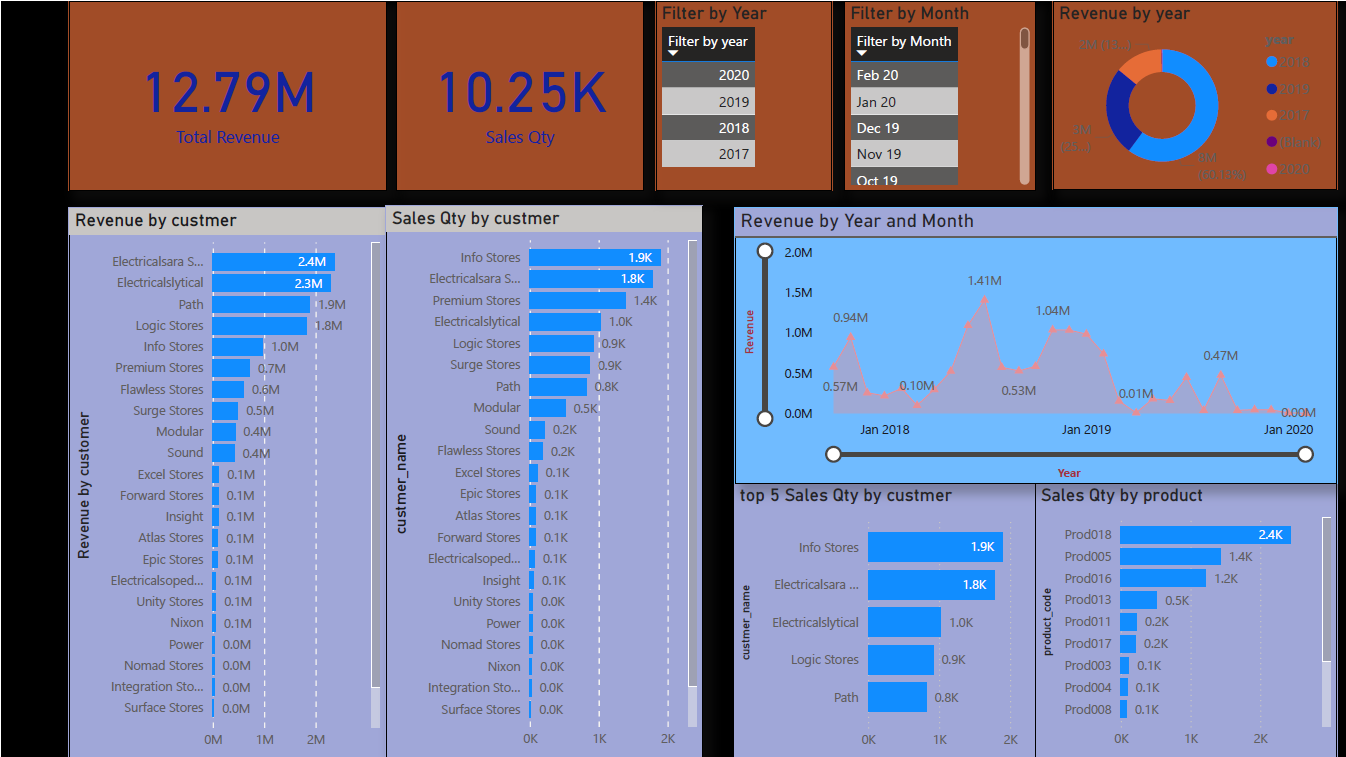

The page's visual inventory and layout, read from the dashboard file:
{"tool":"powerbi","page":{"name":"Page 1","canvas":[1280,720],"ordinal":0},"visuals":[{"type":"card","fields":{"Values":["Basemeasure.Revenue"]},"box":[63.9,0,301.6,179.8],"z":0},{"type":"card","fields":{"Values":["Basemeasure.Sales Qty"]},"box":[375.2,0,235.3,179.8],"z":1000},{"type":"barChart","title":"Revenue by custmer","fields":{"Y":["Basemeasure.Revenue"],"Category":["customer.custmer_name"]},"box":[64.5,196.2,300.5,524.2],"z":2000},{"type":"barChart","title":"Sales Qty by custmer","fields":{"Y":["Basemeasure.Sales Qty"],"Category":["customer.custmer_name"]},"box":[365.2,194.2,300.9,525.2],"z":3000},{"type":"tableEx","title":"Filter by Year","fields":{"Values":["date.year"]},"box":[621.3,0,167.7,179.8],"z":4000},{"type":"tableEx","title":"Filter by Month","fields":{"Values":["date.cy_date"]},"box":[799.9,0,182.2,179.8],"z":5000},{"type":"barChart","title":"top 5 Sales Qty by custmer","fields":{"Y":["Basemeasure.Sales Qty"],"Category":["customer.custmer_name"]},"box":[696.2,458.2,285.9,261.3],"z":6000},{"type":"barChart","title":"Sales Qty by product","fields":{"Y":["Basemeasure.Sales Qty"],"Category":["products.product_code"]},"box":[980.8,457.2,287.1,261.8],"z":7000},{"type":"lineChart","fields":{"Y":["Basemeasure.Revenue"],"Category":["date.cy_date.Variation.Date Hierarchy.Year","date.cy_date.Variation.Date Hierarchy.Month"]},"box":[696.2,195.6,571.7,262.6],"z":8000},{"type":"donutChart","fields":{"Y":["Basemeasure.Revenue"],"Category":["date.year"]},"box":[998,0,270,179],"z":9000}]}

Visuals, with their boxes in screenshot pixels (x1, y1, x2, y2), scaled from the page's 1280x720 canvas onto the 1346x757 screenshot:
card - Basemeasure.Revenue: {"left": 67, "top": 0, "right": 384, "bottom": 189}
card - Basemeasure.Sales Qty: {"left": 395, "top": 0, "right": 642, "bottom": 189}
"Revenue by custmer" barChart: {"left": 68, "top": 206, "right": 384, "bottom": 756}
"Sales Qty by custmer" barChart: {"left": 384, "top": 204, "right": 700, "bottom": 756}
"Filter by Year" tableEx: {"left": 653, "top": 0, "right": 830, "bottom": 189}
"Filter by Month" tableEx: {"left": 841, "top": 0, "right": 1033, "bottom": 189}
"top 5 Sales Qty by custmer" barChart: {"left": 732, "top": 482, "right": 1033, "bottom": 756}
"Sales Qty by product" barChart: {"left": 1031, "top": 481, "right": 1333, "bottom": 756}
lineChart - Basemeasure.Revenue x date.cy_date.Variation.Date Hierarchy.Year: {"left": 732, "top": 206, "right": 1333, "bottom": 482}
donutChart - Basemeasure.Revenue x date.year: {"left": 1049, "top": 0, "right": 1333, "bottom": 188}
